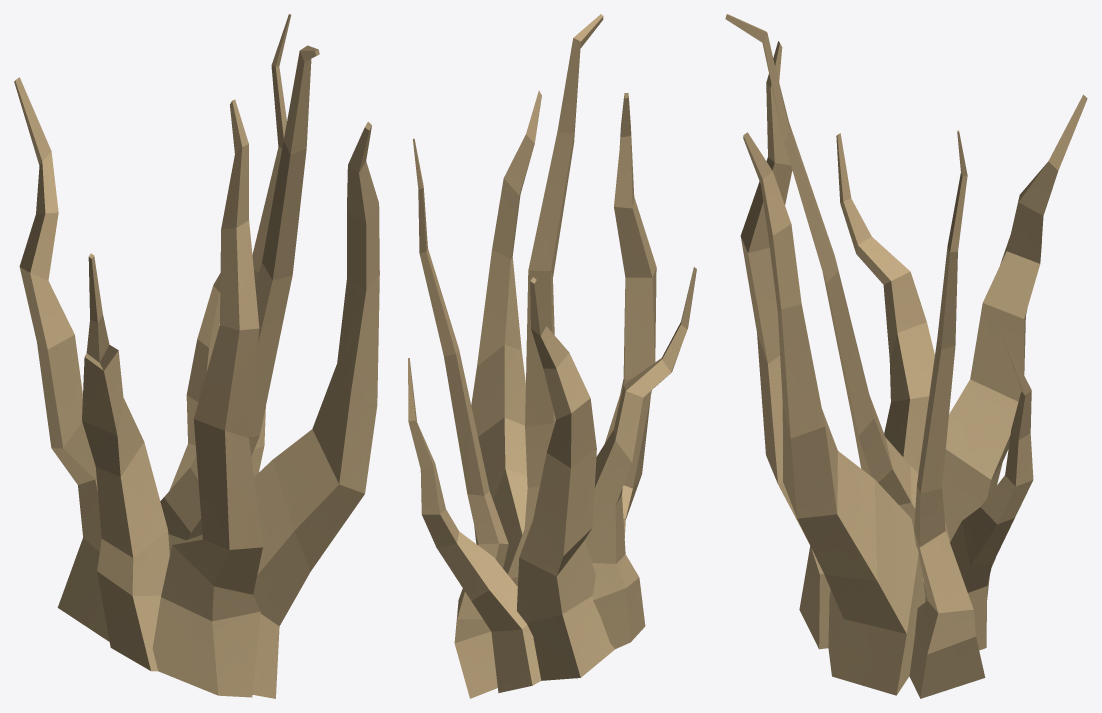
File: grass_brown_2.glb
3 views of the same model, side by side, from view 1: azimuth 30°, elevation 25°; view 2: azimuth 150°, elevation 25°; view 3: azimuth 270°, elevation 25° (orthographic). The views are drawn at different scales.
Parts seen in each view (by area): view 1: grass_brown_2; view 2: grass_brown_2; view 3: grass_brown_2.
Boxes of the visible parts, x1,y1,x2,y2 form: grass_brown_2: (14,14,379,698); grass_brown_2: (408,14,696,698); grass_brown_2: (725,14,1087,698).
Size of the model in its own units: 0.271 by 0.68 by 0.3348.
1 material, 1 textured.
